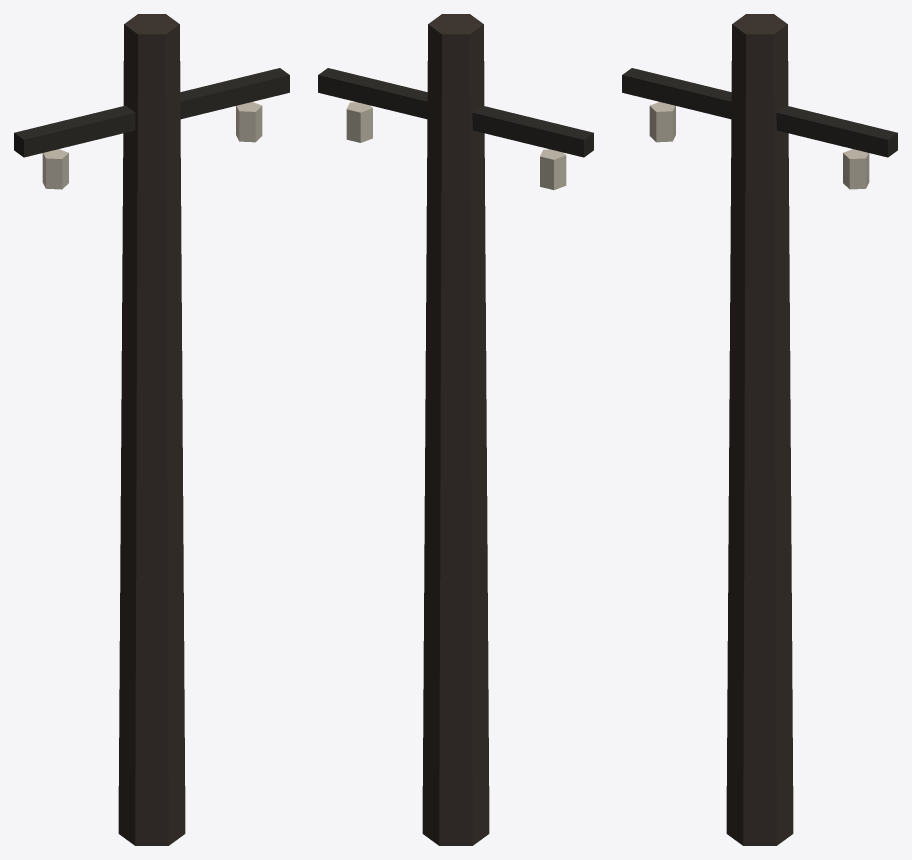
The model's file is pole.glb.
3 views of the same model, side by side, from view 1: azimuth 30°, elevation 25°; view 2: azimuth 150°, elevation 25°; view 3: azimuth 330°, elevation 25° (orthographic).
Parts seen in each view (by area): view 1: n1, n3, n5, n7; view 2: n1, n3, n5, n7; view 3: n1, n3, n7, n5.
Boxes of the visible parts, <box> form: n1: <box>118,14,185,845</box>; n3: <box>14,68,289,157</box>; n5: <box>42,149,68,189</box>; n7: <box>236,102,262,142</box>; n1: <box>422,14,489,845</box>; n3: <box>318,68,593,157</box>; n5: <box>540,149,566,189</box>; n7: <box>346,102,372,142</box>; n1: <box>726,14,793,845</box>; n3: <box>622,68,897,157</box>; n7: <box>843,149,869,189</box>; n5: <box>649,102,675,142</box>.
Size of the model in its own units: 1.1 by 3.2 by 0.24.
